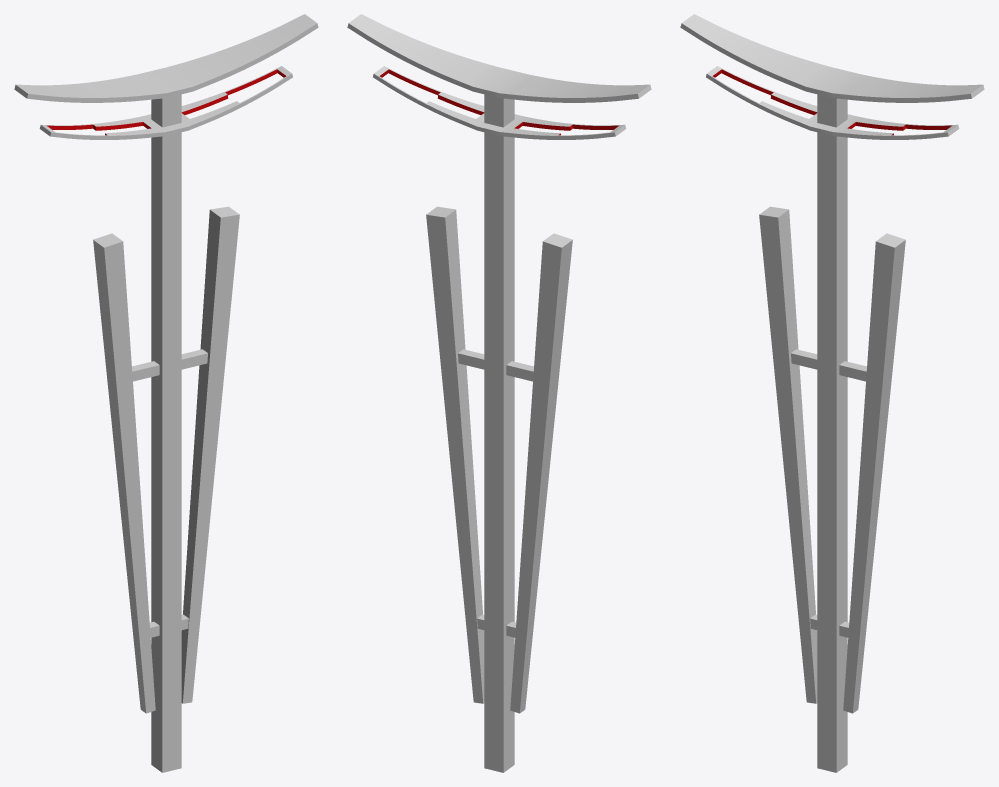
Rendered from SM_StreetLight_Crosswalk.fbx.
3 views of the same model, side by side, from view 1: azimuth 30°, elevation 25°; view 2: azimuth 150°, elevation 25°; view 3: azimuth 330°, elevation 25° (orthographic).
Parts seen in each view (by area): view 1: Cube.001_Cube.001; view 2: Cube.001_Cube.001; view 3: Cube.001_Cube.001.
Boxes of the visible parts, x1,y1,x2,y2 form: Cube.001_Cube.001: [14, 14, 318, 772]; Cube.001_Cube.001: [347, 14, 651, 772]; Cube.001_Cube.001: [680, 14, 984, 772].
Size of the model in its own units: 152 by 356 by 24.
